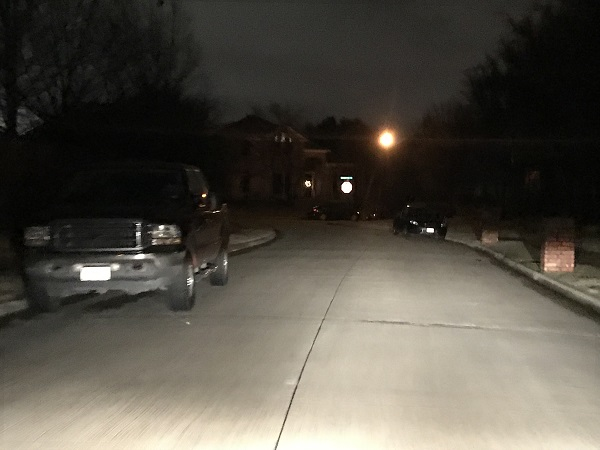car: (390, 200, 448, 241), (310, 198, 376, 223)
truck: (21, 165, 229, 313)
